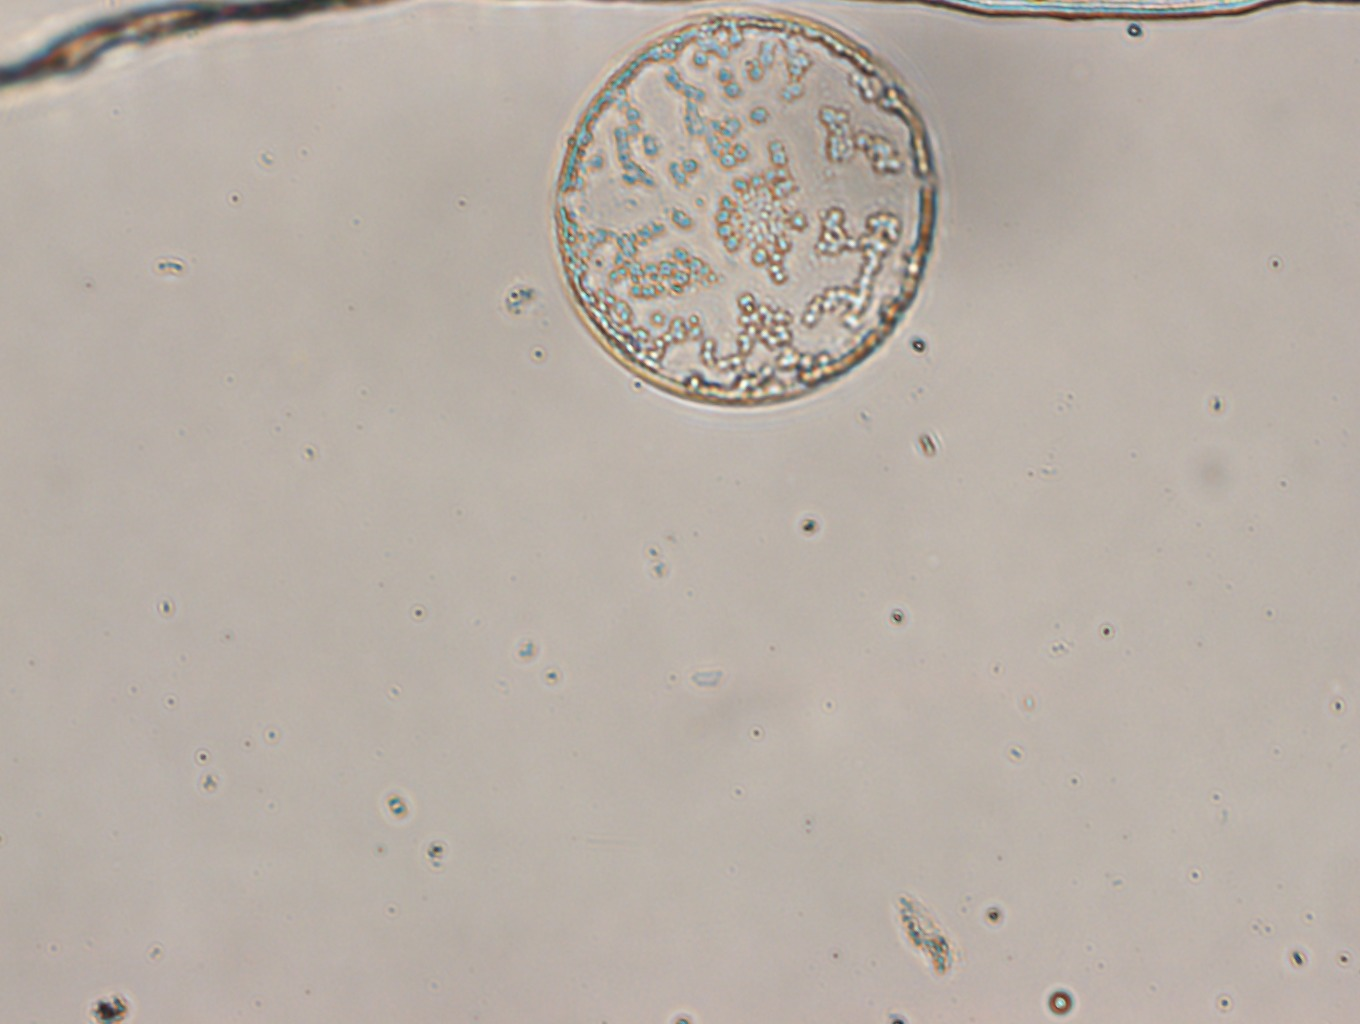coscinodiscus: (553, 10, 953, 414)
